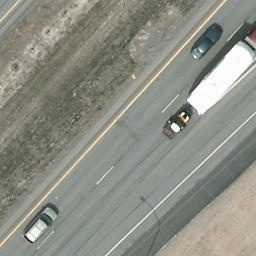car: (19, 206, 59, 248), (191, 23, 225, 64)
